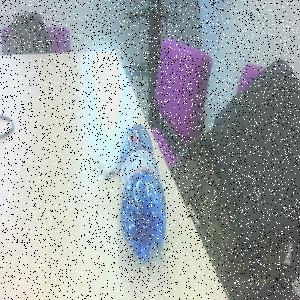Plastic-bottle: (120, 125, 168, 264)
